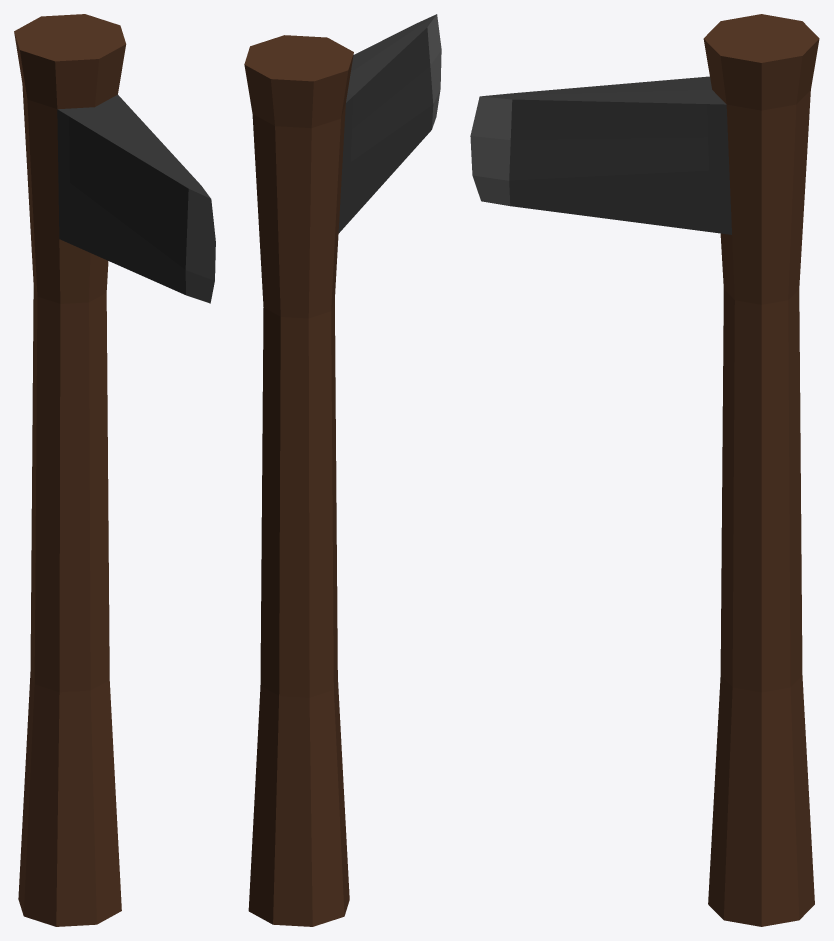
File: TestAxe.fbx
3 views of the same model, side by side, from view 1: azimuth 30°, elevation 25°; view 2: azimuth 150°, elevation 25°; view 3: azimuth 270°, elevation 25° (orthographic). The views are drawn at different scales.
Parts seen in each view (by area): view 1: Cylinder; view 2: Cylinder; view 3: Cylinder.
Boxes of the visible parts, left/top/right/bottom form: Cylinder: left=14, top=14, right=215, bottom=926; Cylinder: left=244, top=14, right=441, bottom=926; Cylinder: left=470, top=14, right=819, bottom=926.
Bounding box in the file's own units: 30.73 × 253 × 92.49.
